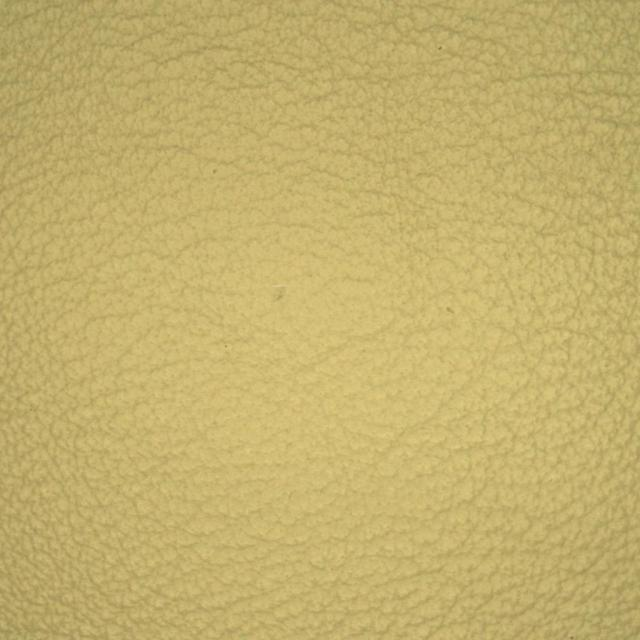Hole: (229, 229, 371, 361)
